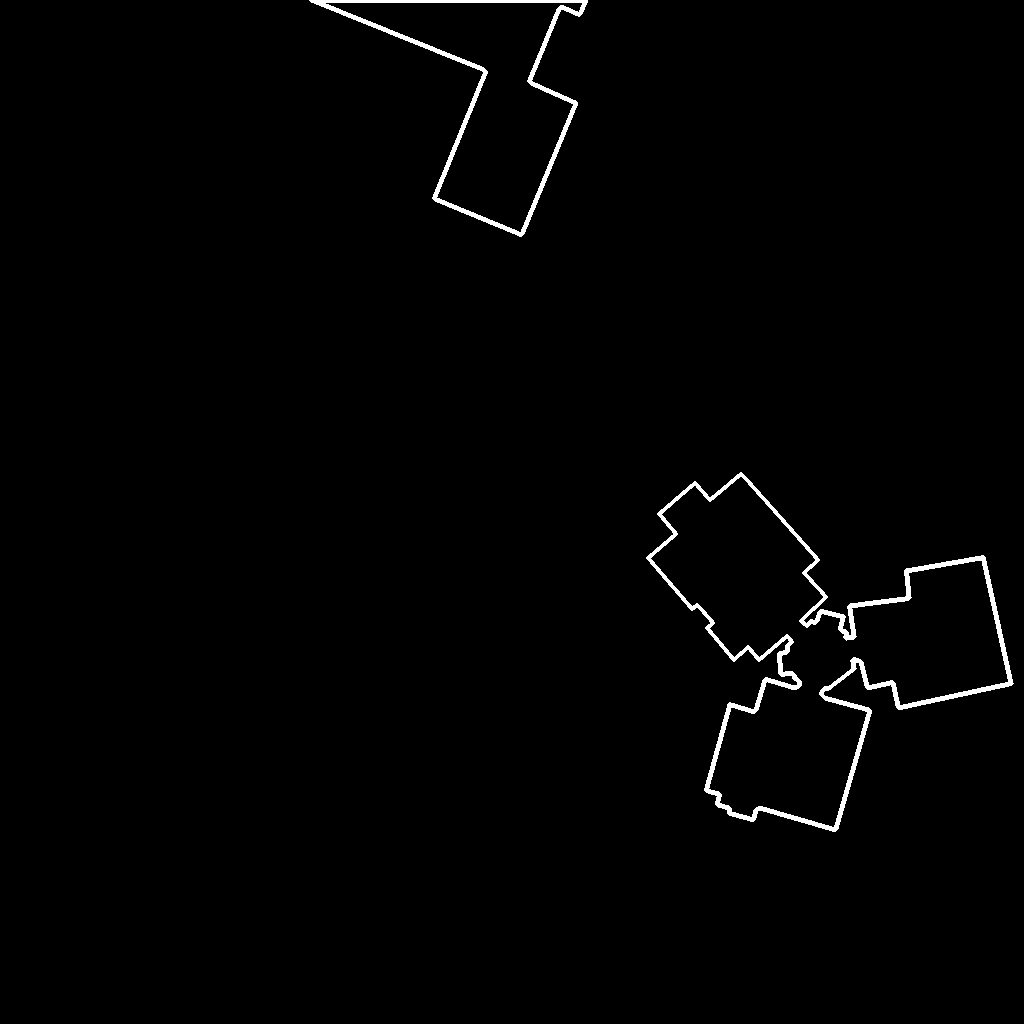building: (648, 474, 1012, 831), (310, 0, 587, 236)
